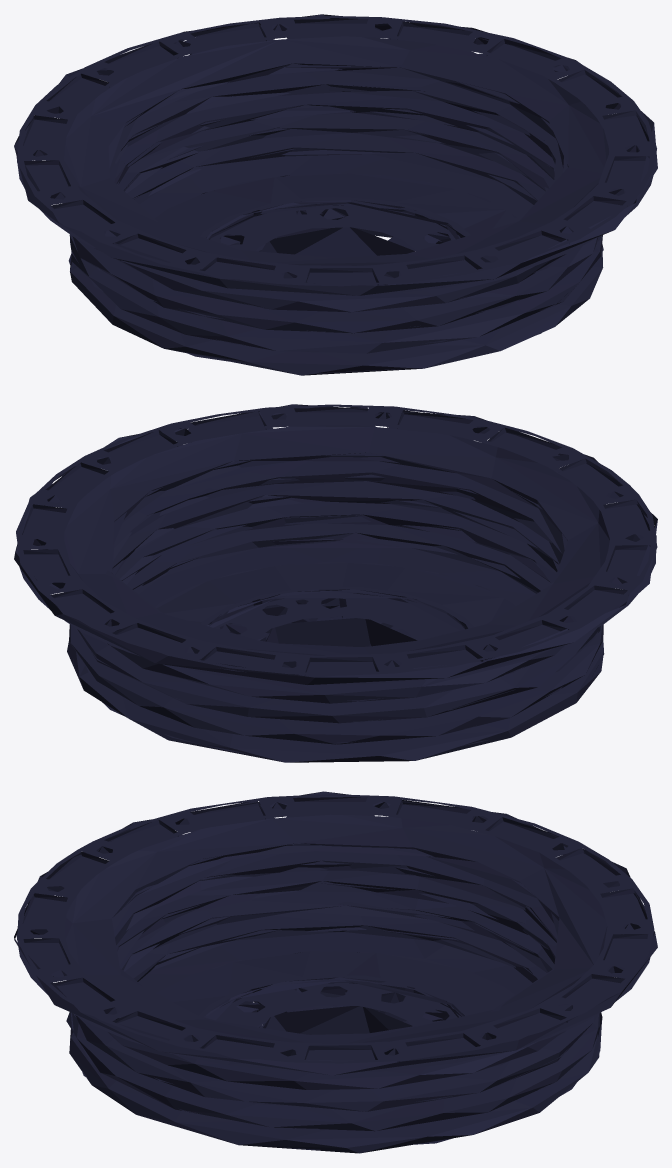
File: rear_left_steer_088.dae
The picture shows the model from 3 angles, top to bottom: view 1: azimuth 30°, elevation 25°; view 2: azimuth 150°, elevation 25°; view 3: azimuth 270°, elevation 25°; orthographic projection.
Visible parts, largest first — view 1: node; view 2: node; view 3: node.
Part boxes in pixels (x1,y1,x2,y2): node: [14, 14, 657, 375]; node: [14, 404, 657, 762]; node: [14, 791, 657, 1153].
Bounding box in the file's own units: 0.1998 × 0.1978 × 0.0484.
